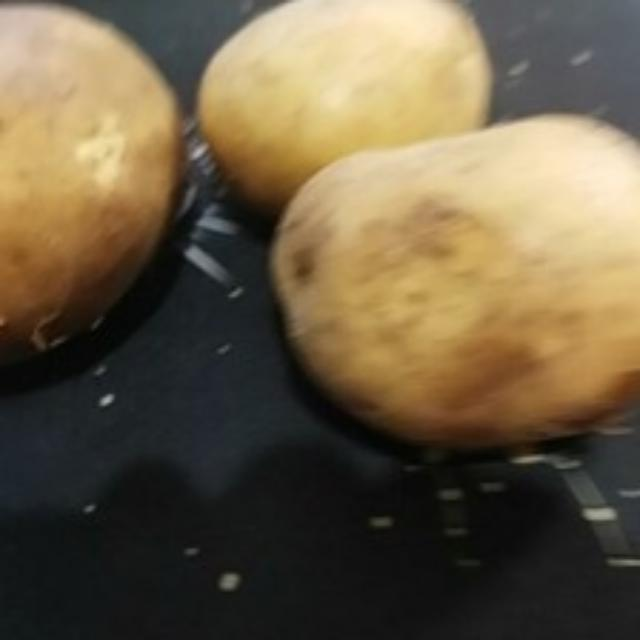Damaged potato: (260, 113, 636, 457)
Potato: (0, 2, 188, 402), (198, 1, 504, 216)
